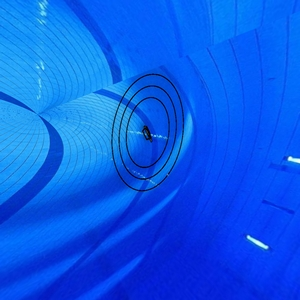circle: (108, 68, 189, 194)
submarine: (135, 123, 161, 147)
